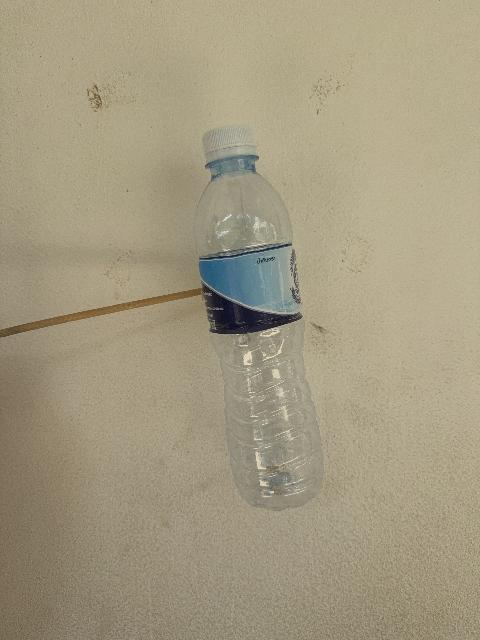bottle: (195, 126, 323, 509)
